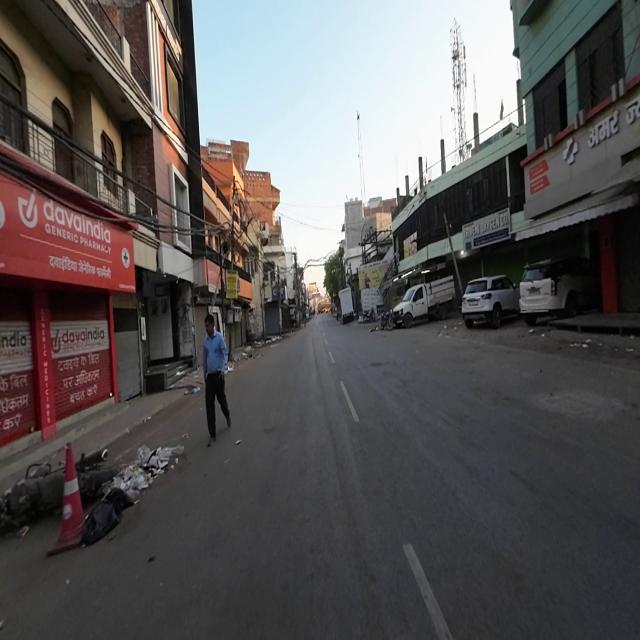Garbage: (115, 447, 183, 498)
